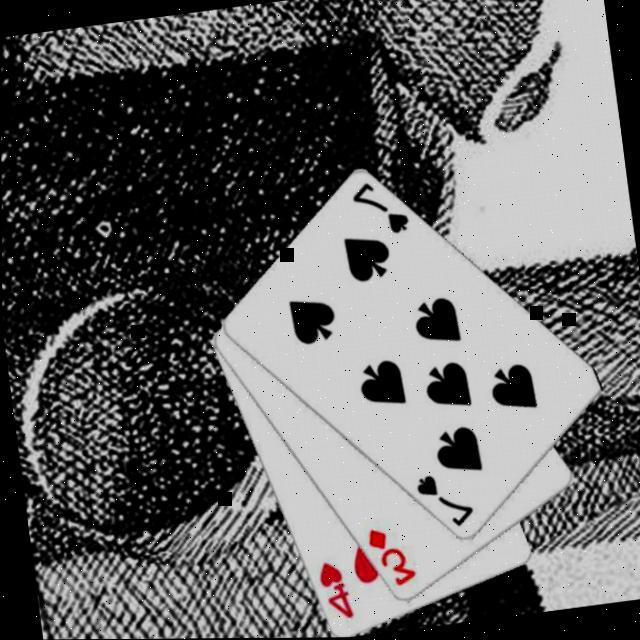3D: (362, 522, 420, 595)
4H: (312, 558, 356, 627)
7S: (412, 468, 478, 536), (347, 176, 413, 244)
